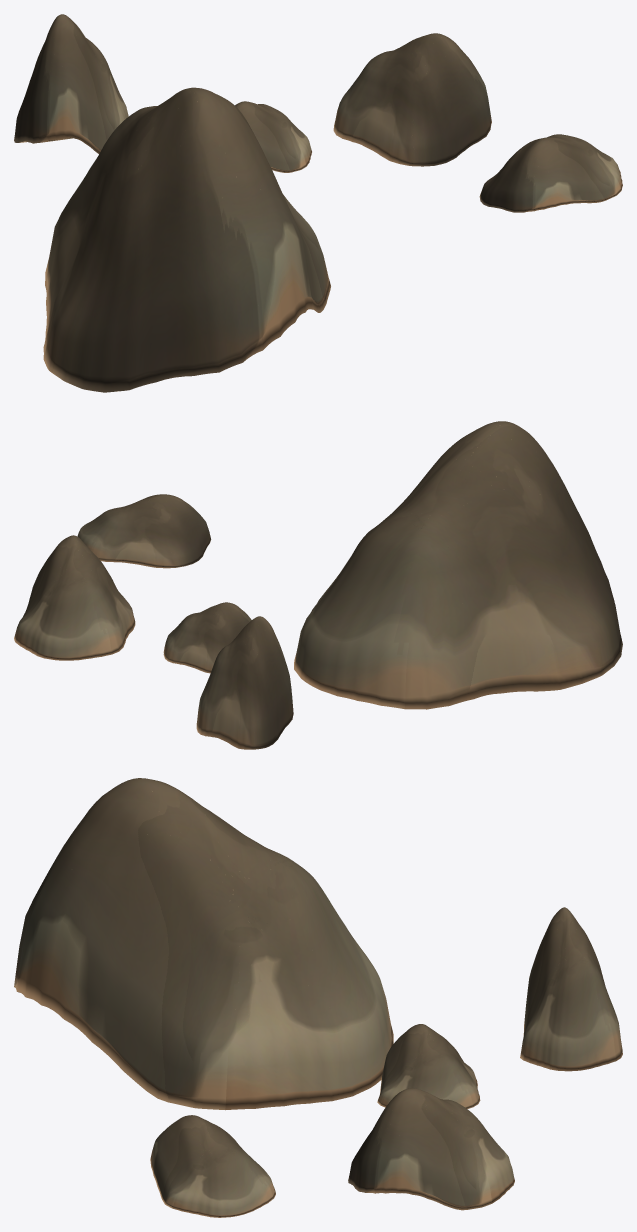
Rendered from Tas6.fbx.
3 views of the same model, one above another, from view 1: azimuth 30°, elevation 25°; view 2: azimuth 150°, elevation 25°; view 3: azimuth 270°, elevation 25° (orthographic). The views are drawn at different scales.
Parts seen in each view (by area): view 1: Cube.060, Cube.063, Cube.065, Cube.062, Cube.064; view 2: Cube.060, Cube.063, Cube.065, Cube.062, Cube.064; view 3: Cube.060, Cube.063, Cube.065, Cube.062, Cube.064.
Part boxes in pixels (x1=…): Cube.060: x1=43, y1=87, x2=330, y2=392; Cube.063: x1=333, y1=33, x2=491, y2=166; Cube.065: x1=14, y1=14, x2=128, y2=153; Cube.062: x1=479, y1=134, x2=622, y2=212; Cube.064: x1=235, y1=101, x2=311, y2=172; Cube.060: x1=294, y1=421, x2=622, y2=709; Cube.063: x1=14, y1=535, x2=135, y2=660; Cube.065: x1=196, y1=616, x2=293, y2=749; Cube.062: x1=77, y1=494, x2=211, y2=568; Cube.064: x1=163, y1=602, x2=251, y2=673; Cube.060: x1=14, y1=778, x2=393, y2=1110; Cube.063: x1=348, y1=1088, x2=514, y2=1210; Cube.065: x1=520, y1=907, x2=622, y2=1071; Cube.062: x1=150, y1=1115, x2=275, y2=1217; Cube.064: x1=377, y1=1024, x2=480, y2=1108.
Bounding box in the file's own units: 716 × 297 × 636.
1 material, 1 textured.
